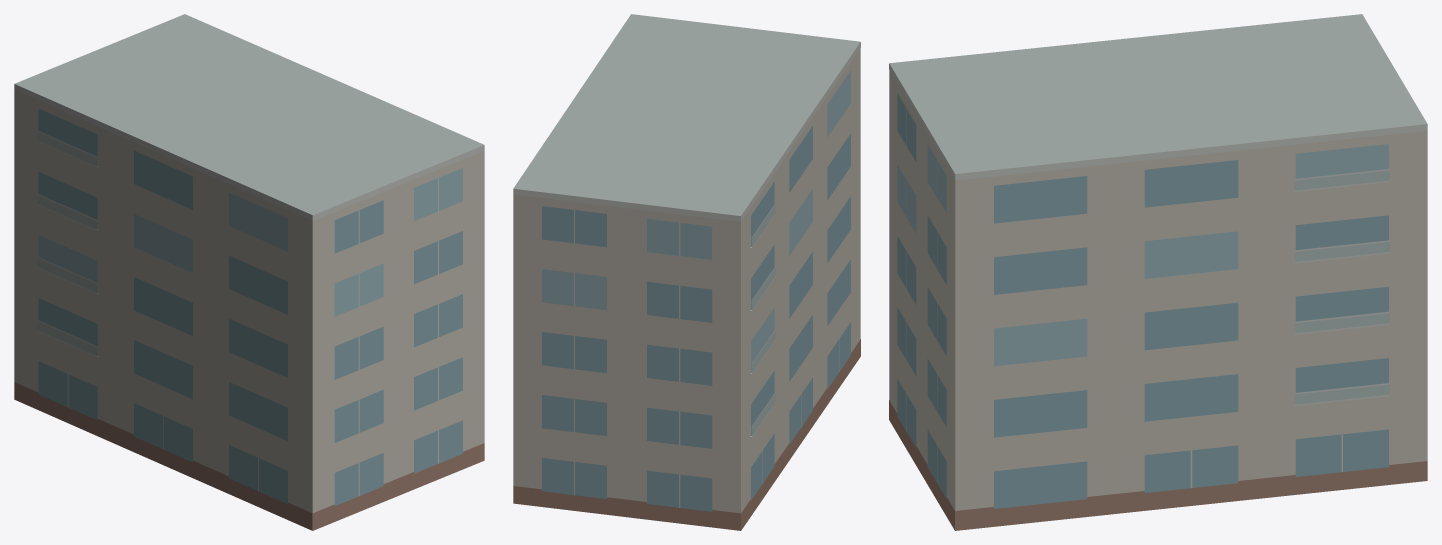
Rendered from survey-upis-33012366.glb.
The picture shows the model from 3 angles, left to right: view 1: azimuth 30°, elevation 25°; view 2: azimuth 150°, elevation 25°; view 3: azimuth 270°, elevation 25°; orthographic projection. The views are drawn at different scales.
Parts seen in each view (by area): view 1: survey-upis-33012366.tmp; view 2: survey-upis-33012366.tmp; view 3: survey-upis-33012366.tmp.
Part boxes in pixels (x1=…): survey-upis-33012366.tmp: x1=14, y1=14, x2=484, y2=530; survey-upis-33012366.tmp: x1=513, y1=14, x2=860, y2=530; survey-upis-33012366.tmp: x1=889, y1=14, x2=1427, y2=530.
Size of the model in its own units: 12.81 by 13.3 by 18.2.
